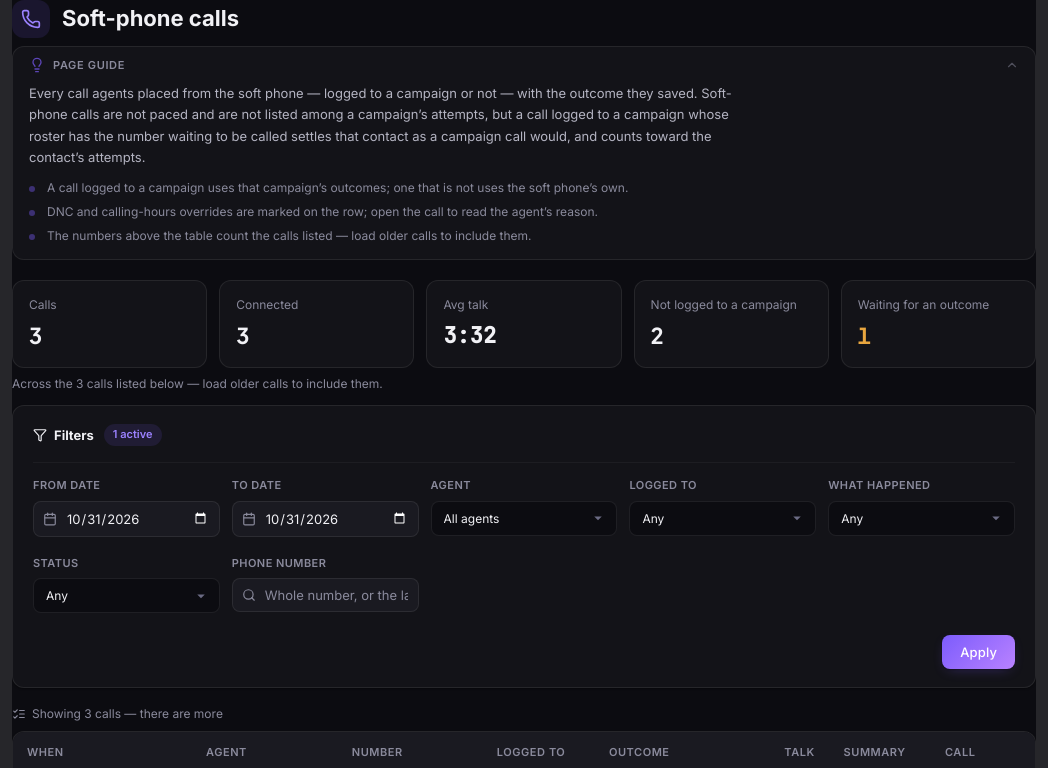
Scenario: Soft-phone calls (the account list) › applies the filters as the §6 query: agent, logged to (incl. not logged), what happened, number
Select "Arjun Kulkarni" in the dropdown with test id "filter-agent". click: (524, 518)
box: [431,500,617,536]
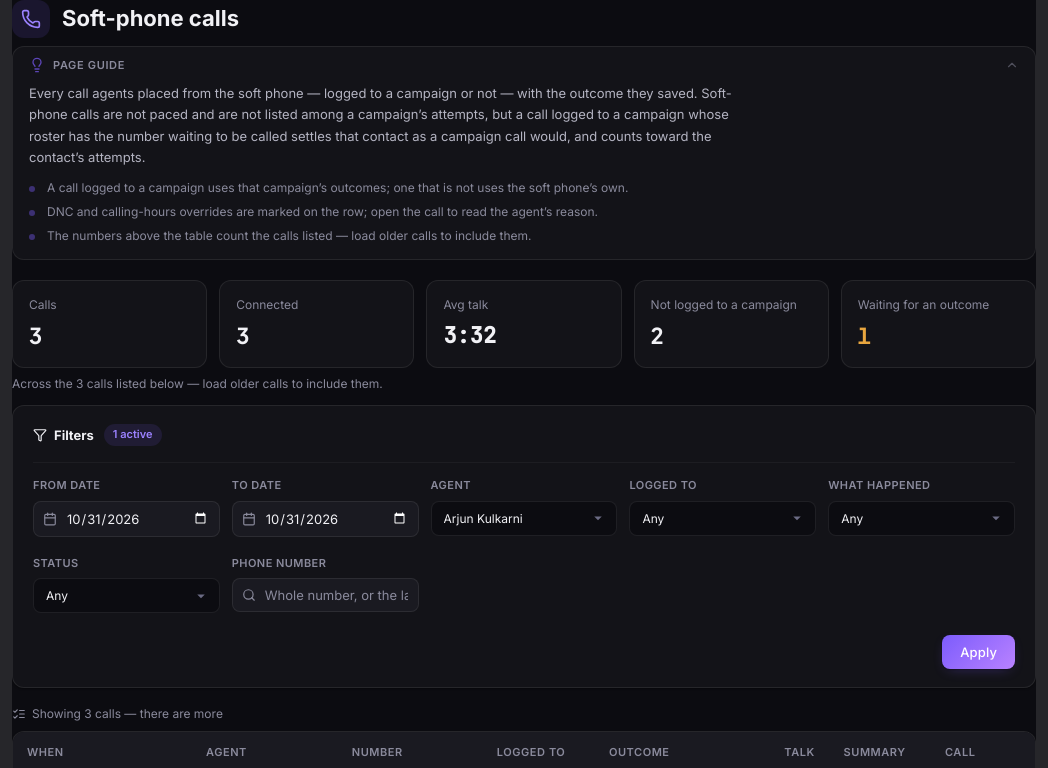
Select "Not logged to a campaign" in the dropdown with test id "filter-campaign". click: (723, 518)
box: [629,500,816,536]
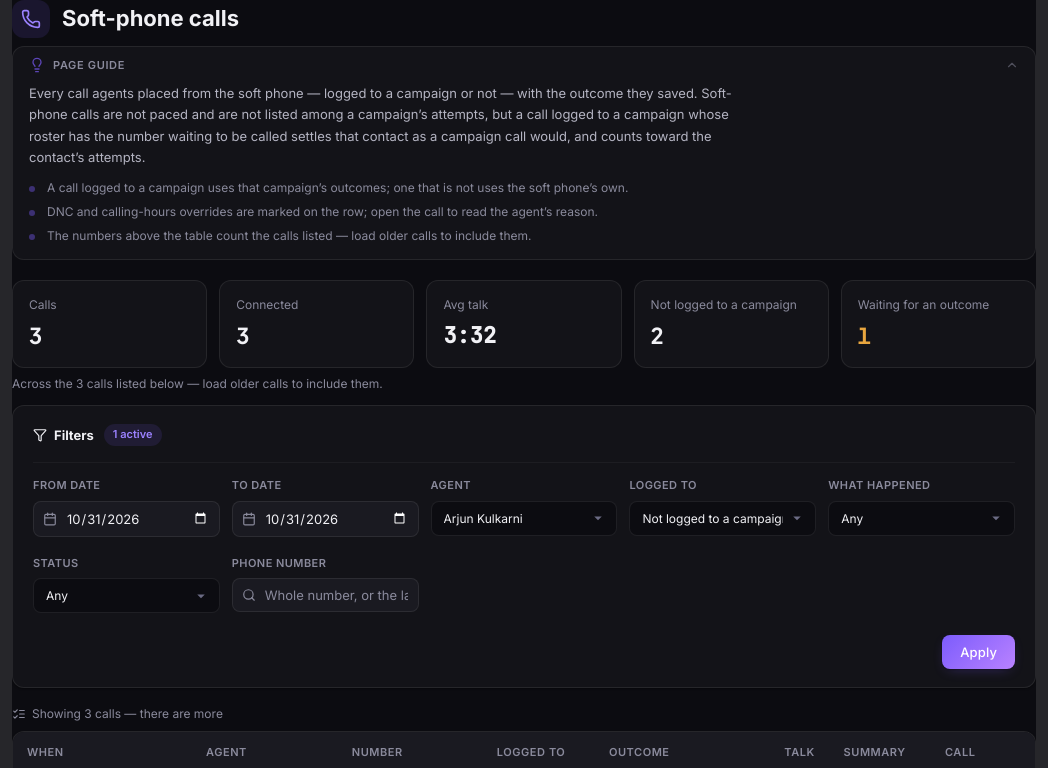
Select "Busy" in the dropdown with test id "filter-outcome". click: (922, 518)
box: [828,500,1015,536]
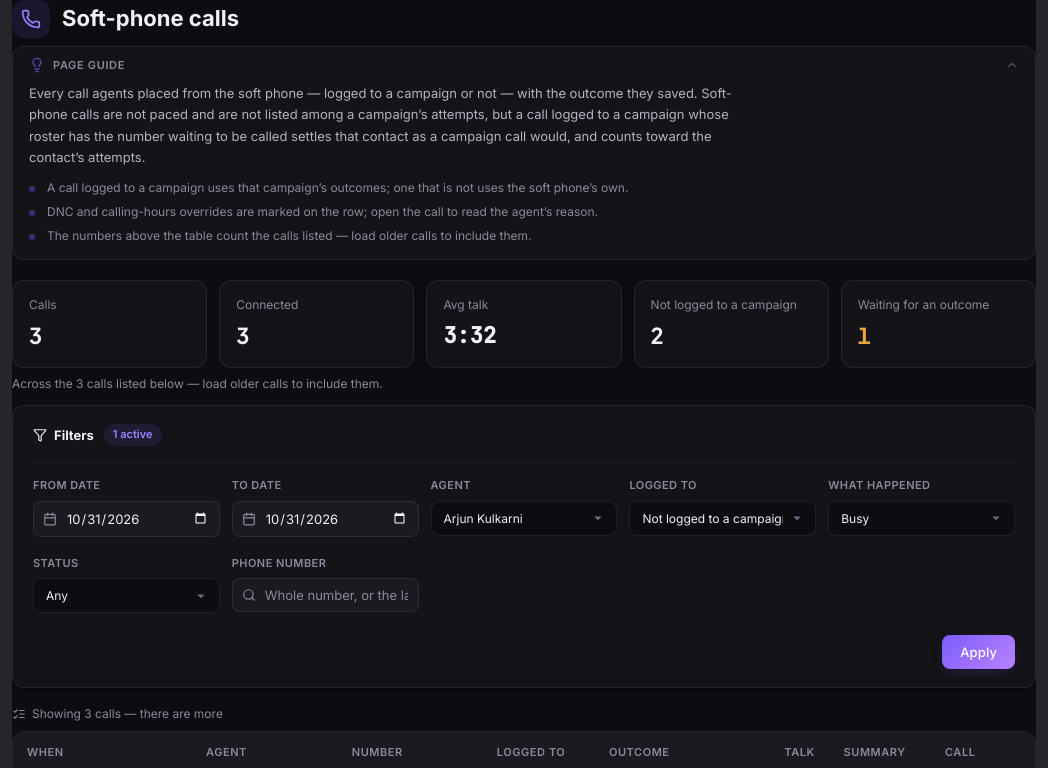
Type "98204 617" into the field with test id "filter-phone". click: (325, 595)
box: [232,578,419,612]
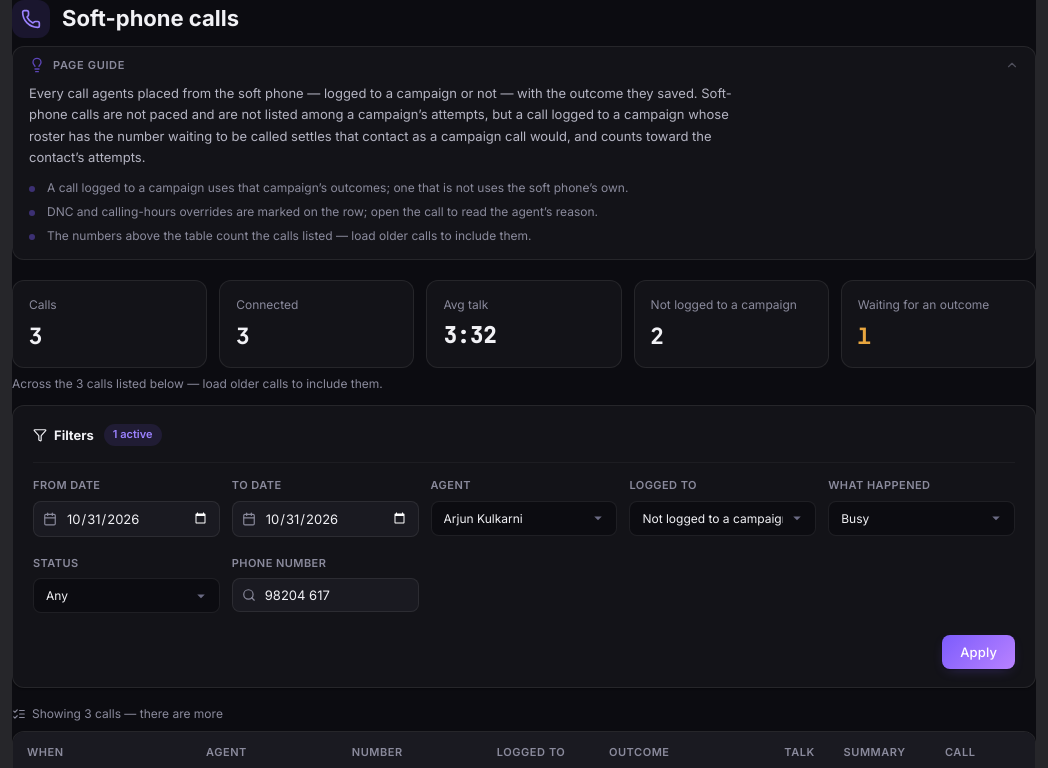
Click the button with test id "filter-apply". click: (979, 652)
box: [942,635,1015,669]
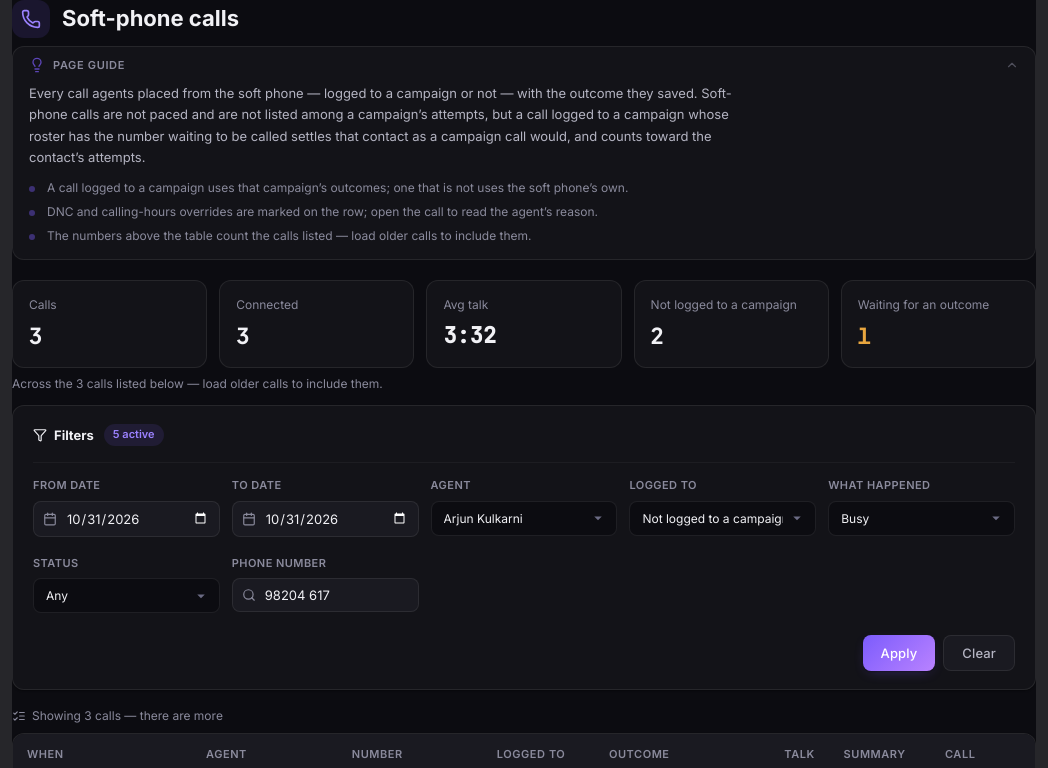
Check: the text "5 active" is shown, box [104,424,164,446]
